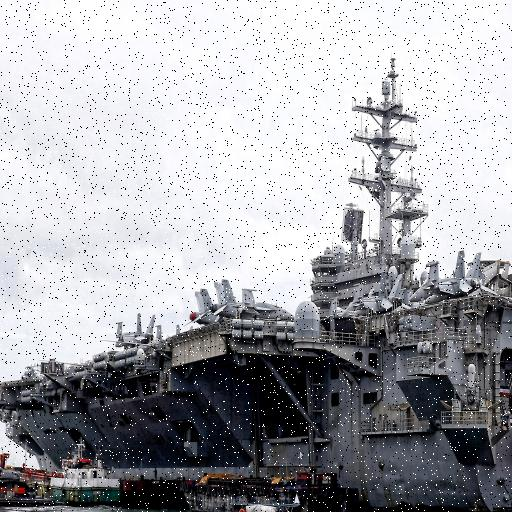Portanaves: (1, 54, 512, 512)
